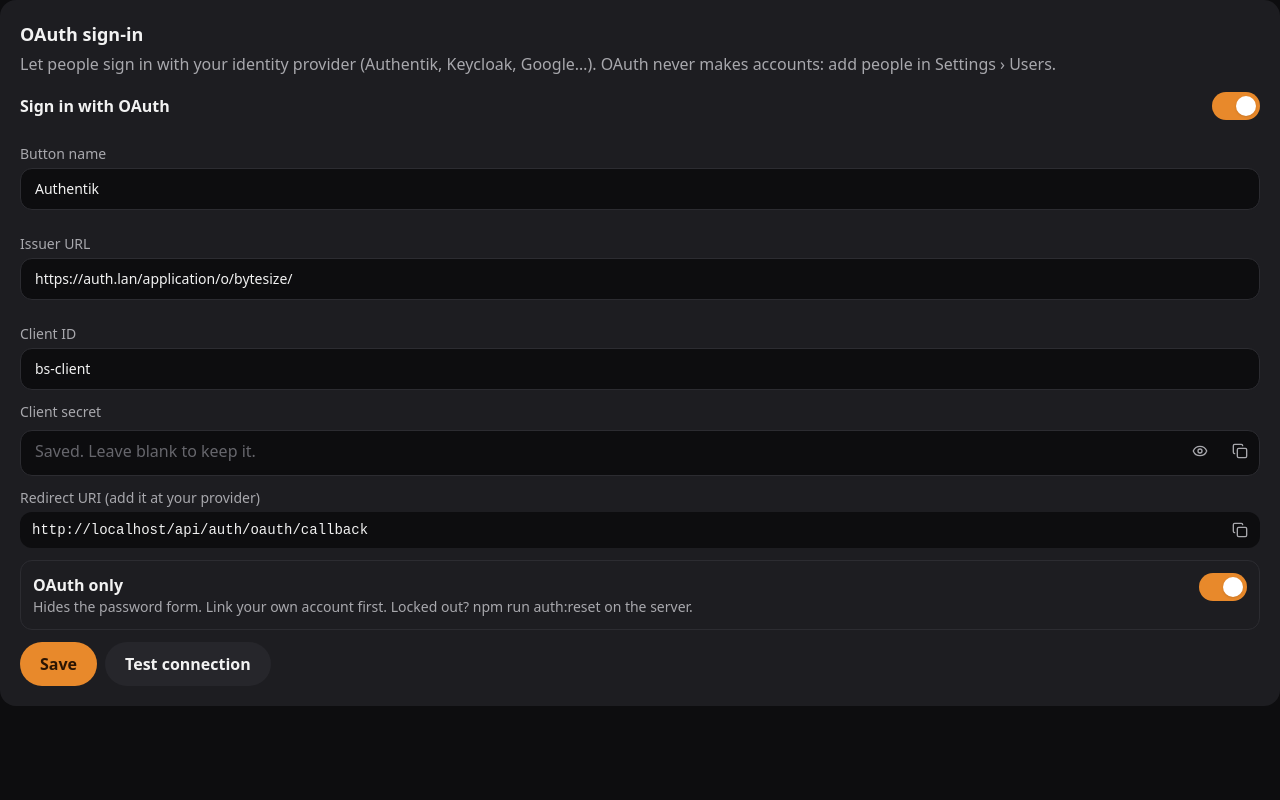
Settings › Security › OAuth sign-in (admin) › a new provider: says OAuth only was turned off
The width and height of the screenshot is (1280, 800).
Step 1. Replace the text in the field labelled "Issuer URL" with "https://new.lan/o/bs" → (640, 279), box left=20, top=258, right=1260, bottom=300
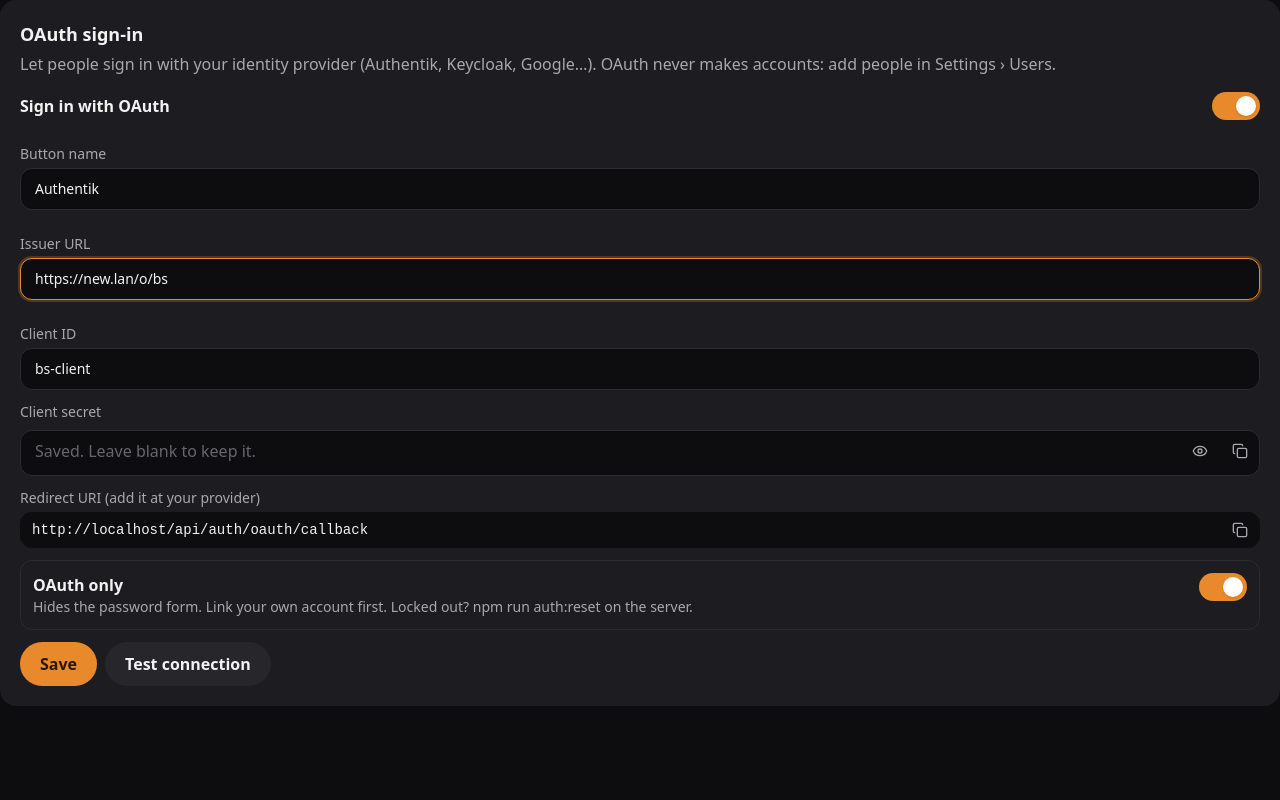
Step 2. Click the button "Save" → (58, 664), box left=20, top=642, right=97, bottom=686
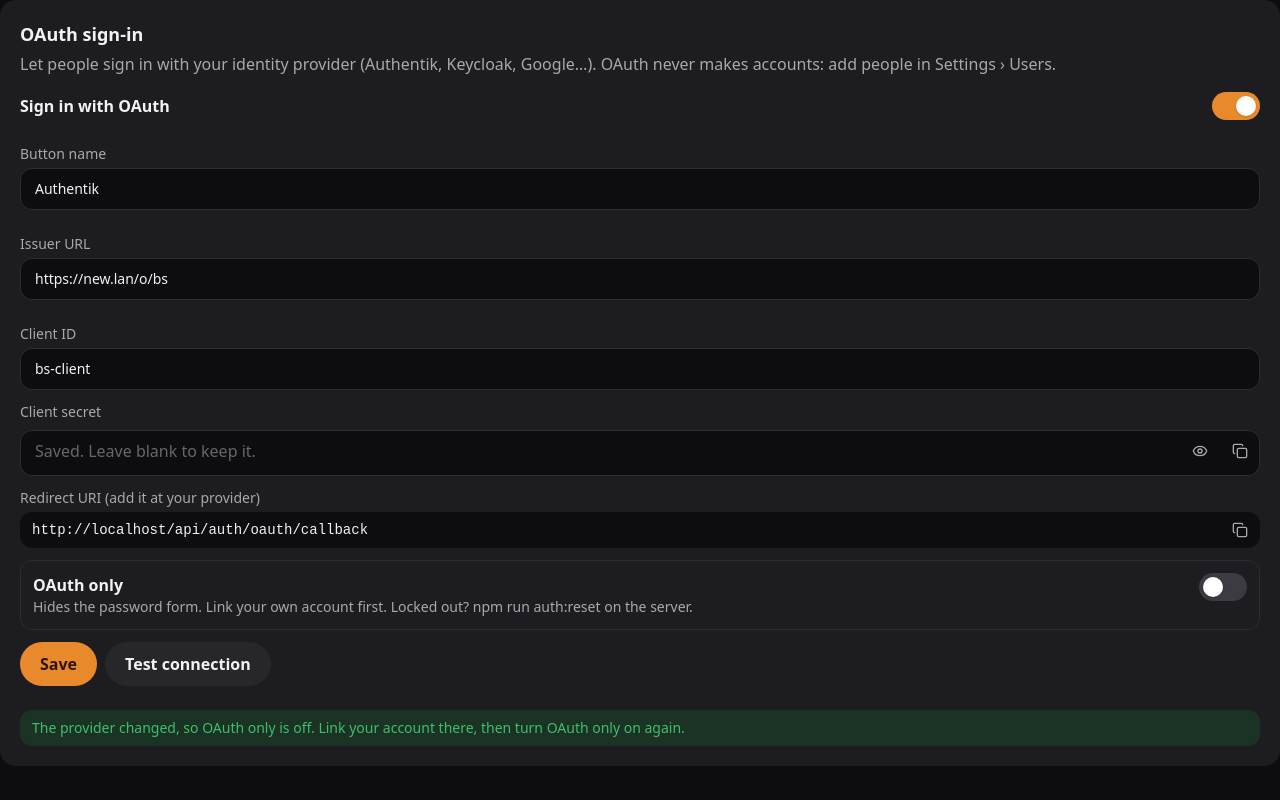
Check: the text "The provider changed, so OAuth only is off" is shown, box left=32, top=718, right=685, bottom=737
